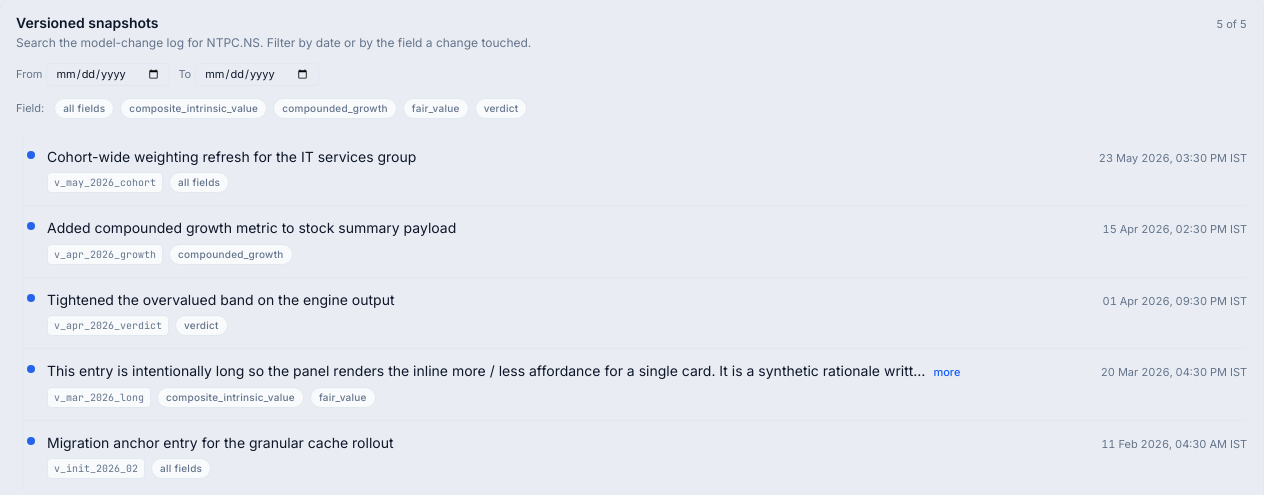
Scenario: VersionedSnapshotsPanel › filters by from-date
Expected: the text "Cohort-wide weighting refresh for the IT services group" is shown, left=47, top=146, right=416, bottom=166
Type "2026-05-01" into the date field labelled "From" at coordinates (108, 74), box left=46, top=63, right=170, bottom=86
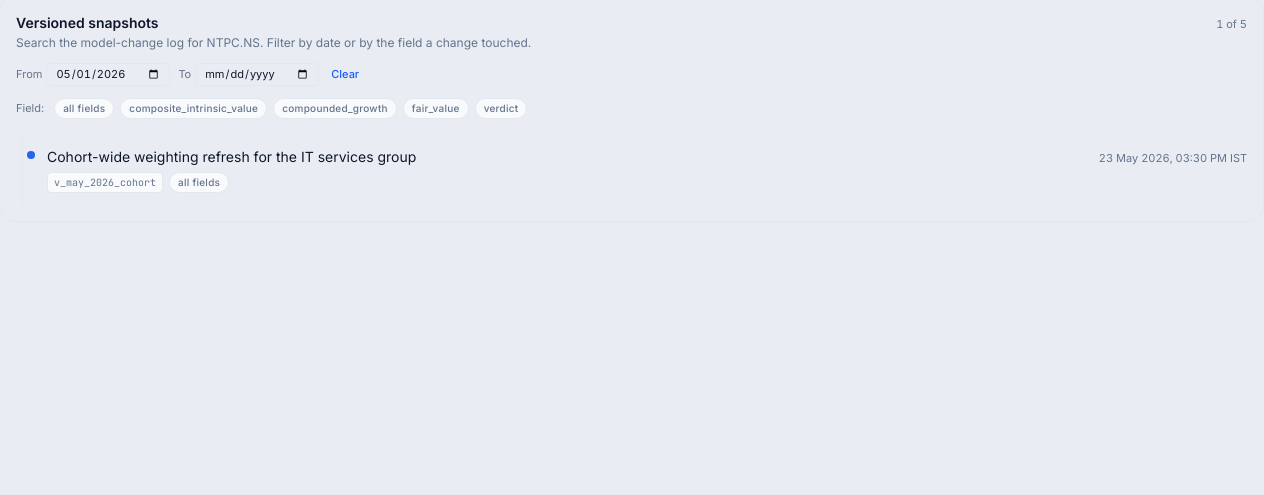
Expected: the text "Cohort-wide weighting refresh for the IT services group" is shown, left=47, top=146, right=416, bottom=166
Expected: the text "Migration anchor entry" is gone
Expected: the text "1 of 5" is shown, left=1216, top=16, right=1247, bottom=32
